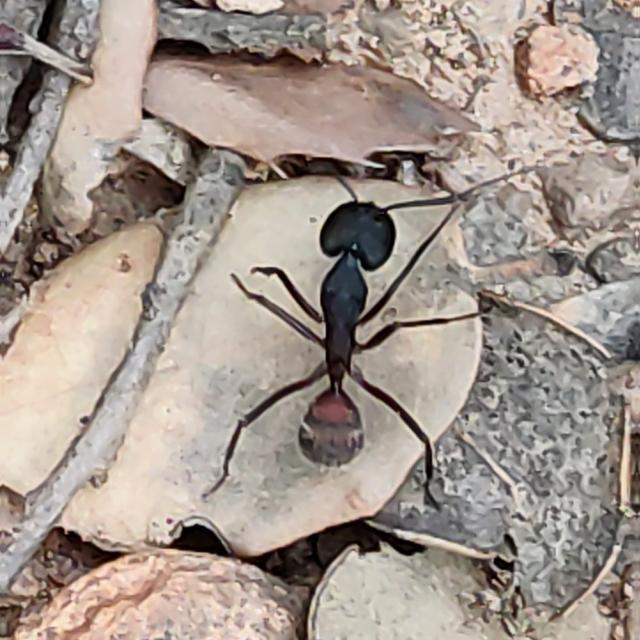Camponotus: (234, 139, 456, 505)
